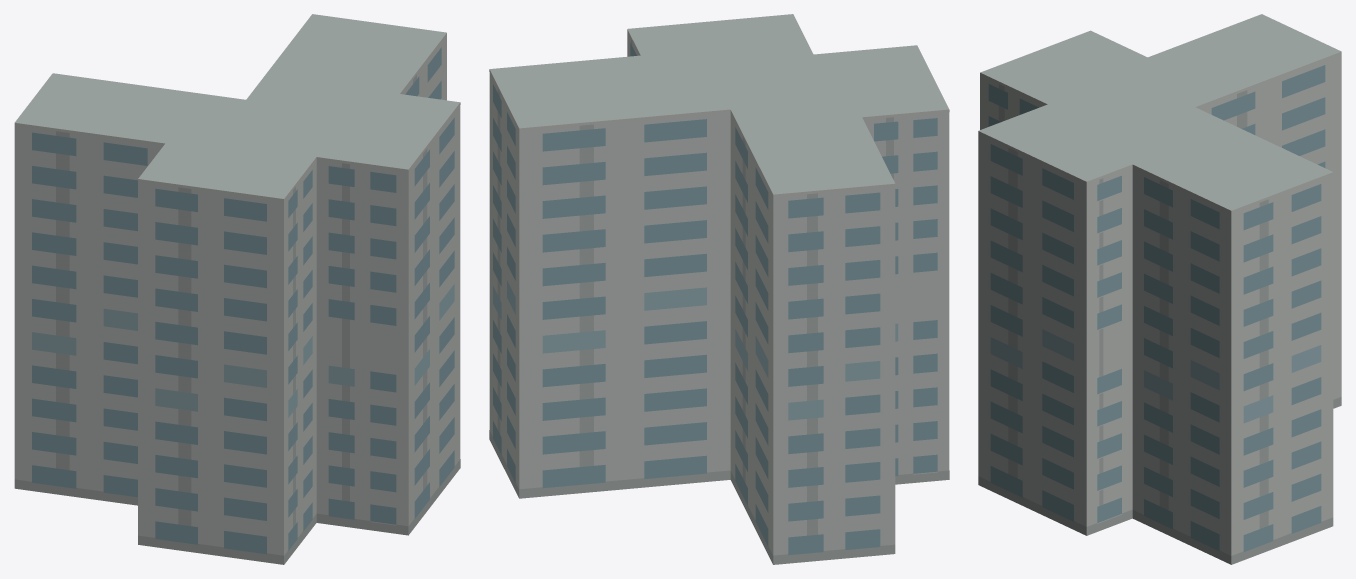
Rendered from residential-8fa78436-6f88-4aab-a2c3-0b17fc9cddd7.glb.
The picture shows the model from 3 angles, left to right: view 1: azimuth 30°, elevation 25°; view 2: azimuth 150°, elevation 25°; view 3: azimuth 270°, elevation 25°; orthographic projection. The views are drawn at different scales.
Parts seen in each view (by area): view 1: residential-8fa78436-6f88-4aab-a2c3-0b17fc9cddd7.tmp; view 2: residential-8fa78436-6f88-4aab-a2c3-0b17fc9cddd7.tmp; view 3: residential-8fa78436-6f88-4aab-a2c3-0b17fc9cddd7.tmp.
Boxes of the visible parts, bbox=[...] form: residential-8fa78436-6f88-4aab-a2c3-0b17fc9cddd7.tmp: bbox=[14, 14, 460, 564]; residential-8fa78436-6f88-4aab-a2c3-0b17fc9cddd7.tmp: bbox=[489, 14, 949, 564]; residential-8fa78436-6f88-4aab-a2c3-0b17fc9cddd7.tmp: bbox=[978, 14, 1341, 564].
Bounding box in the file's own units: 39.35 × 33 × 30.71.
